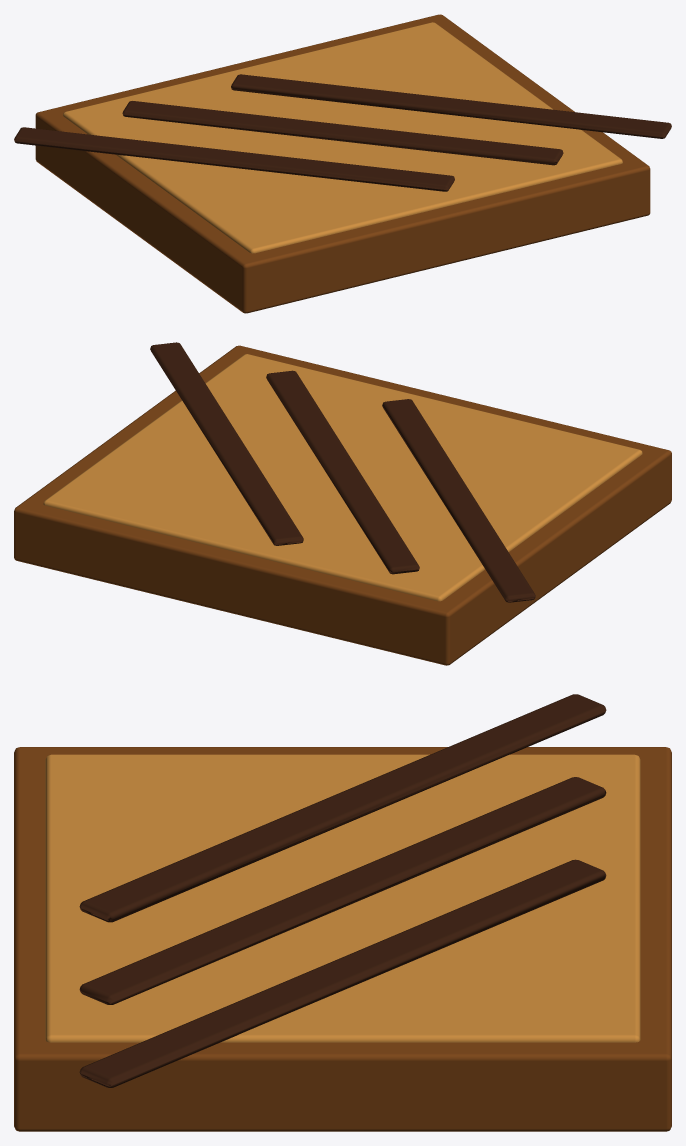
The model's file is Bread_Toasted.glb.
3 views of the same model, one above another, from view 1: azimuth 30°, elevation 25°; view 2: azimuth 150°, elevation 25°; view 3: azimuth 270°, elevation 25° (orthographic). The views are drawn at different scales.
Parts seen in each view (by area): view 1: Bread_Toasted; view 2: Bread_Toasted; view 3: Bread_Toasted.
Part boxes in pixels (x1,y1,x2,y2): Bread_Toasted: (14,14,671,313); Bread_Toasted: (14,342,671,665); Bread_Toasted: (14,694,671,1131).
Bounding box in the file's own units: 0.1173 × 0.013 × 0.084.
